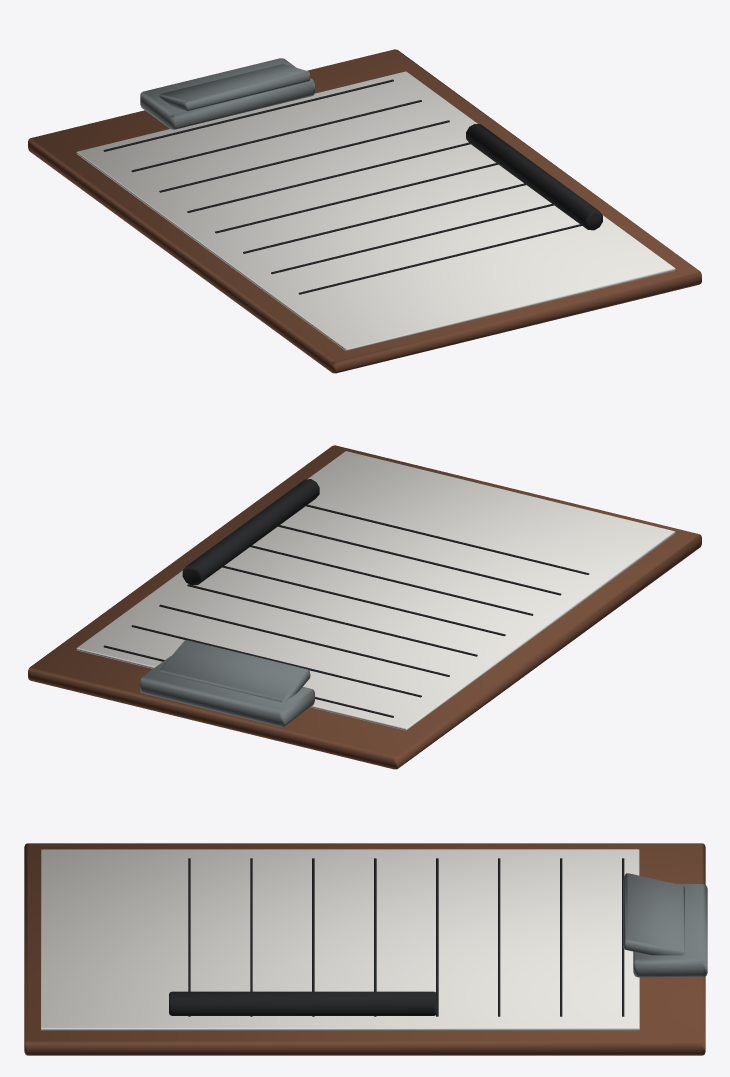
The model's file is asset_089_reservation_clipboard.glb.
The picture shows the model from 3 angles, top to bottom: view 1: azimuth 30°, elevation 25°; view 2: azimuth 150°, elevation 25°; view 3: azimuth 270°, elevation 25°; orthographic projection. The views are drawn at different scales.
Visible parts, largest first — view 1: MESH_ClipboardSheet, MESH_ClipboardPanel, MESH_ClipboardRuling, MESH_ClipboardClipBase, MESH_ClipboardPen, MESH_ClipboardClipArm; view 2: MESH_ClipboardSheet, MESH_ClipboardPanel, MESH_ClipboardRuling, MESH_ClipboardClipArm, MESH_ClipboardClipBase, MESH_ClipboardPen; view 3: MESH_ClipboardSheet, MESH_ClipboardPanel, MESH_ClipboardPen, MESH_ClipboardClipArm, MESH_ClipboardRuling, MESH_ClipboardClipBase.
Boxes of the visible parts, x1=… form: MESH_ClipboardSheet: x1=76, y1=71, x2=675, y2=350; MESH_ClipboardPanel: x1=28, y1=49, x2=701, y2=373; MESH_ClipboardRuling: x1=103, y1=79, x2=581, y2=294; MESH_ClipboardClipBase: x1=140, y1=58, x2=314, y2=129; MESH_ClipboardPen: x1=466, y1=124, x2=602, y2=230; MESH_ClipboardClipArm: x1=159, y1=64, x2=310, y2=110; MESH_ClipboardSheet: x1=76, y1=451, x2=675, y2=730; MESH_ClipboardPanel: x1=28, y1=445, x2=701, y2=769; MESH_ClipboardRuling: x1=103, y1=504, x2=589, y2=717; MESH_ClipboardClipArm: x1=159, y1=640, x2=310, y2=702; MESH_ClipboardClipBase: x1=140, y1=656, x2=314, y2=726; MESH_ClipboardPen: x1=182, y1=479, x2=319, y2=585; MESH_ClipboardSheet: x1=41, y1=849, x2=639, y2=1030; MESH_ClipboardPanel: x1=24, y1=843, x2=705, y2=1055; MESH_ClipboardPen: x1=169, y1=991, x2=437, y2=1015; MESH_ClipboardClipArm: x1=623, y1=873, x2=684, y2=955; MESH_ClipboardRuling: x1=188, y1=858, x2=624, y2=1016; MESH_ClipboardClipBase: x1=633, y1=884, x2=707, y2=977.
Size of the model in its own units: 0.24 by 0.0277 by 0.34.
